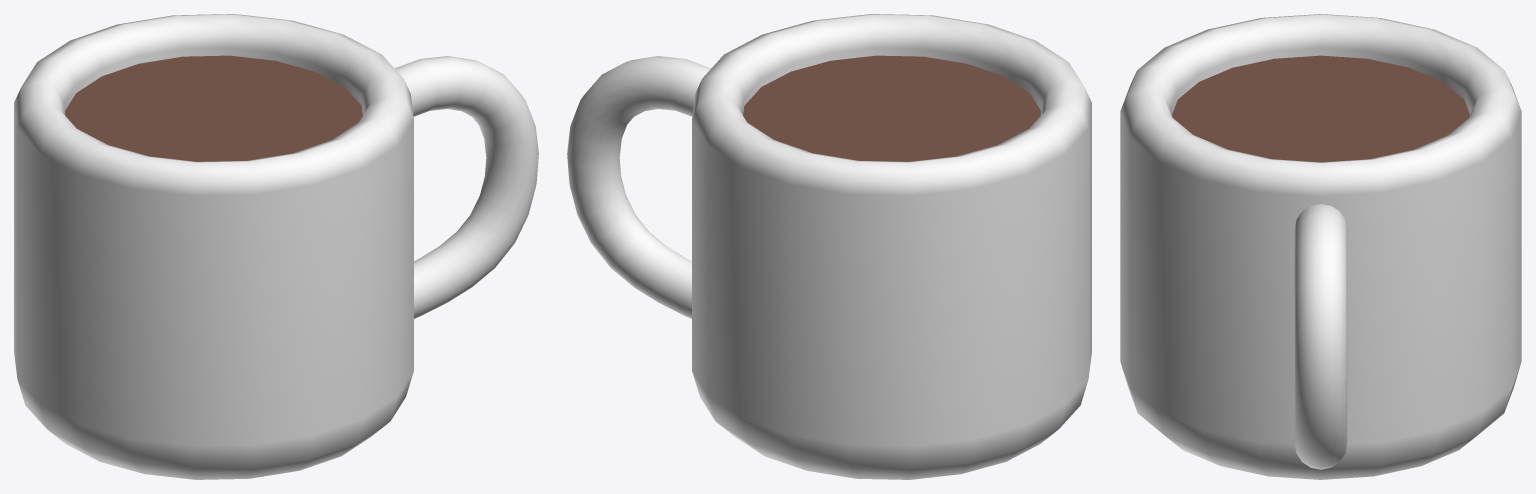
The model's file is Mug_2.fbx.
The picture shows the model from 3 angles, left to right: view 1: azimuth 30°, elevation 25°; view 2: azimuth 150°, elevation 25°; view 3: azimuth 270°, elevation 25°; orthographic projection.
Parts seen in each view (by area): view 1: Mug_2; view 2: Mug_2; view 3: Mug_2.
Boxes of the visible parts, box(x1,y1,x2,y2) form: Mug_2: box(14, 14, 538, 479); Mug_2: box(567, 14, 1091, 479); Mug_2: box(1120, 14, 1521, 479).
Bounding box in the file's own units: 22.18 × 13.96 × 15.58.
